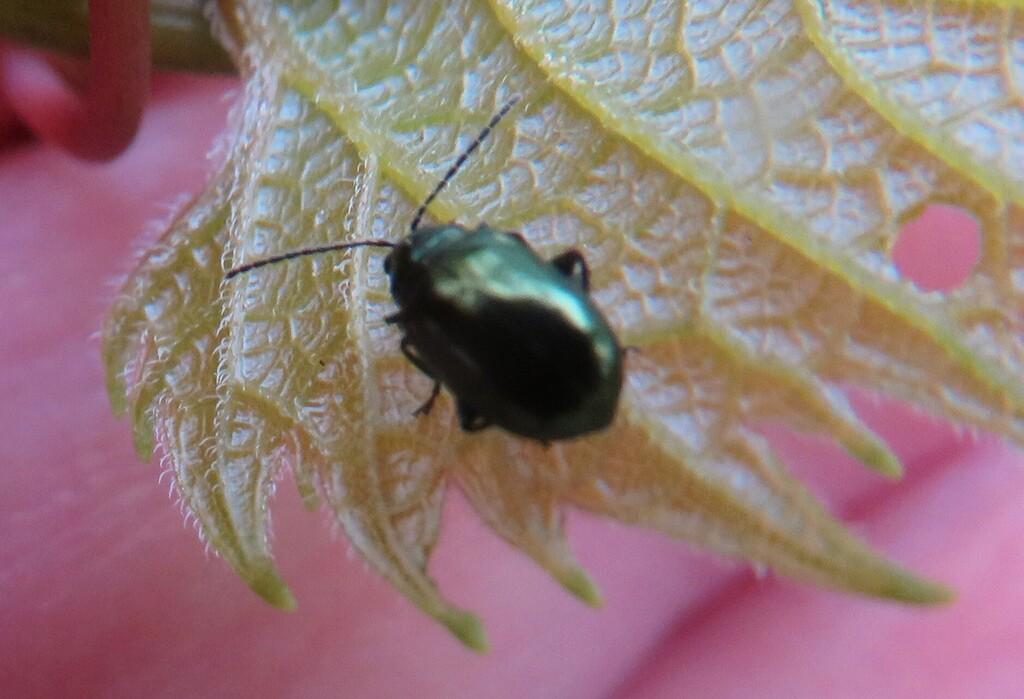flea_beetle: (183, 66, 729, 478)
